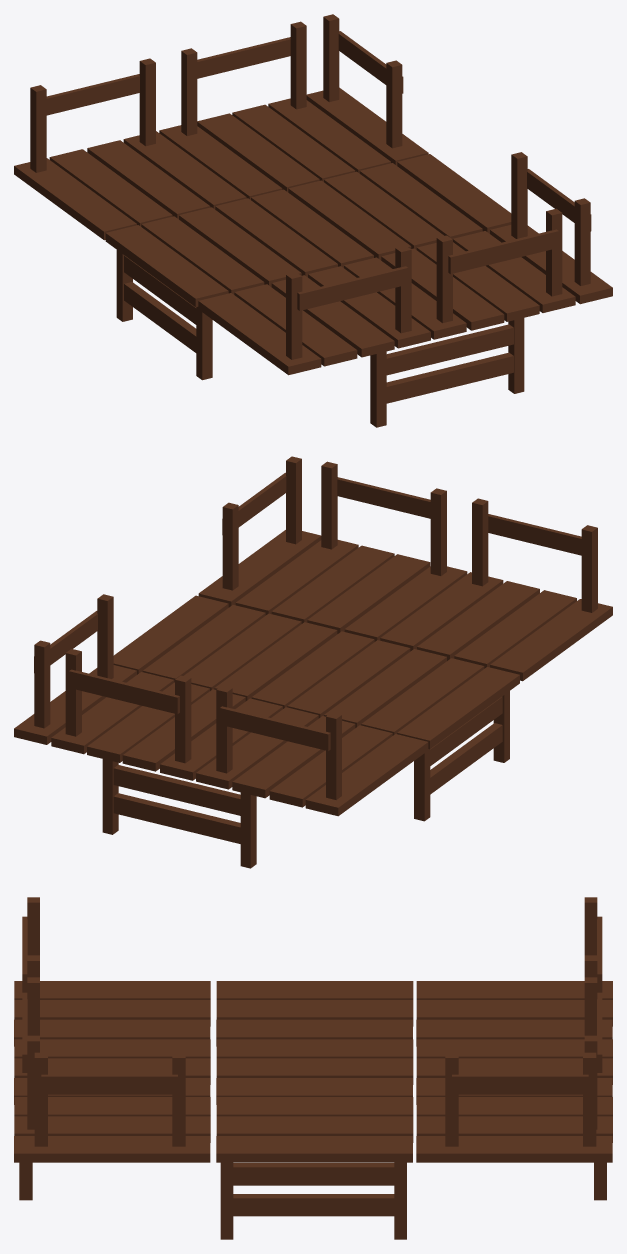
The model's file is pier.fbx.
The picture shows the model from 3 angles, top to bottom: view 1: azimuth 30°, elevation 25°; view 2: azimuth 150°, elevation 25°; view 3: azimuth 270°, elevation 25°; orthographic projection. The views are drawn at different scales.
Parts seen in each view (by area): view 1: Cube.001, meio.001; view 2: Cube.001, meio.001; view 3: Cube.001, meio.001.
Boxes of the visible parts, x1,y1,x2,y2 form: Cube.001: [14, 87, 612, 427]; meio.001: [30, 14, 591, 359]; Cube.001: [14, 530, 612, 868]; meio.001: [34, 456, 597, 799]; Cube.001: [14, 981, 612, 1239]; meio.001: [22, 897, 602, 1146].
Bounding box in the file's own units: 2129 × 1041 × 3122.
